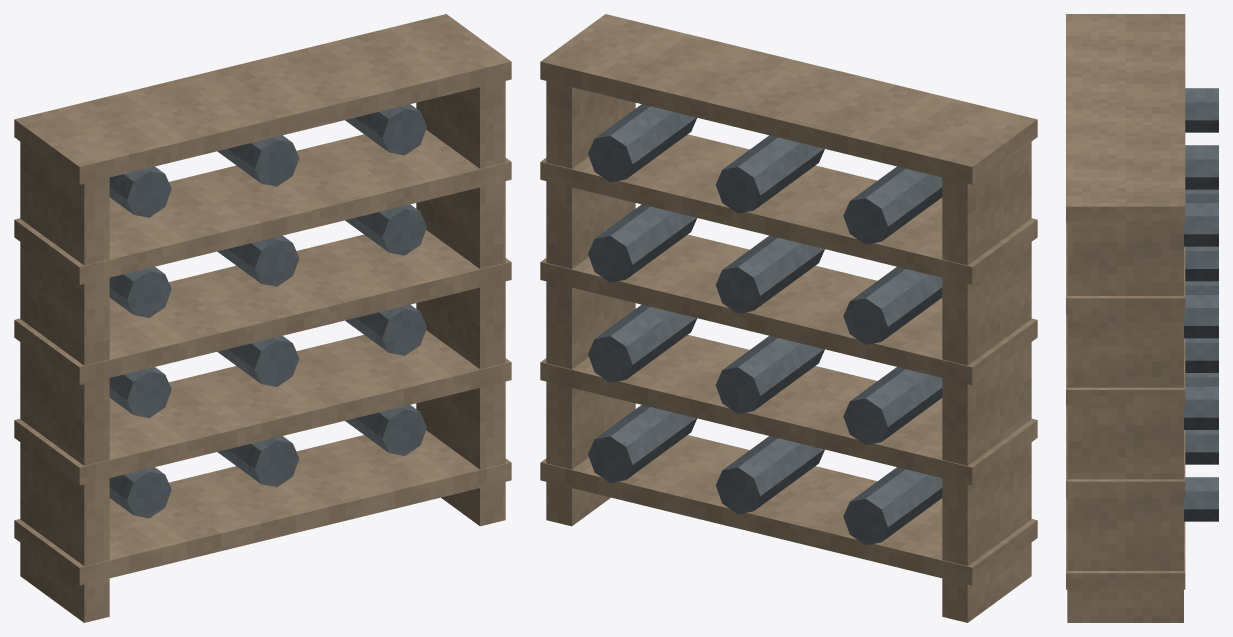
File: level_blockout_wine_rack.glb
3 renders of one model, left to right at view 1: azimuth 30°, elevation 25°; view 2: azimuth 150°, elevation 25°; view 3: azimuth 270°, elevation 25°, orthographic. The views are drawn at different scales.
Parts seen in each view (by area): view 1: level_blockout_wine_rack; view 2: level_blockout_wine_rack; view 3: level_blockout_wine_rack.
Boxes of the visible parts, <box> form: level_blockout_wine_rack: <box>14,14,511,622</box>; level_blockout_wine_rack: <box>540,14,1037,622</box>; level_blockout_wine_rack: <box>1066,14,1218,622</box>.
Size of the model in its own units: 2.03 by 2.05 by 0.68.
2 materials, 2 textured.
